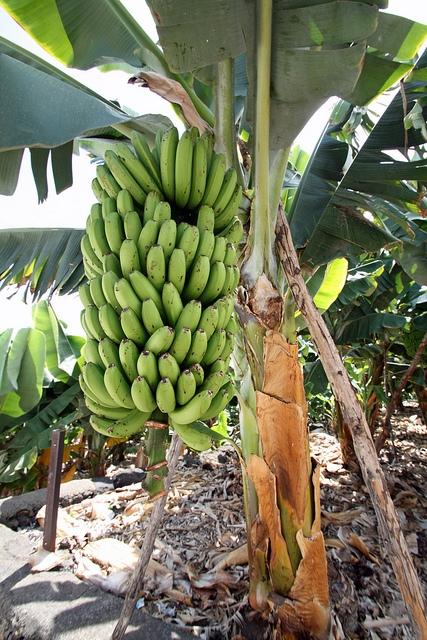banana: (115, 143, 166, 200), (104, 150, 147, 208), (129, 270, 170, 326), (130, 130, 164, 197), (182, 228, 215, 292), (194, 153, 226, 214), (82, 361, 122, 407), (98, 337, 132, 387), (114, 278, 146, 328), (186, 136, 207, 212), (180, 255, 210, 308), (167, 390, 213, 424), (213, 184, 242, 236), (160, 126, 179, 204), (78, 372, 119, 408), (107, 407, 153, 438), (175, 130, 193, 209), (104, 364, 136, 408), (196, 260, 226, 306), (171, 419, 214, 451), (212, 166, 238, 218), (137, 219, 159, 279), (179, 328, 207, 374), (137, 351, 161, 402), (99, 303, 128, 345), (157, 219, 177, 279), (121, 307, 150, 348), (86, 396, 134, 420), (88, 218, 112, 264), (206, 266, 235, 304), (144, 326, 174, 362), (162, 281, 184, 330), (105, 212, 126, 263), (174, 300, 202, 338), (196, 389, 229, 421), (102, 270, 124, 318), (178, 225, 199, 275), (146, 244, 166, 296), (80, 233, 104, 276), (200, 328, 226, 367), (119, 238, 142, 282), (131, 376, 158, 412), (119, 338, 140, 384), (168, 326, 192, 366), (84, 304, 108, 342), (168, 247, 186, 296), (194, 306, 218, 342), (142, 298, 164, 336), (158, 352, 181, 388), (90, 414, 124, 438), (86, 339, 108, 374), (175, 369, 196, 405), (200, 129, 214, 182), (196, 371, 222, 399), (124, 210, 143, 248), (143, 190, 162, 228), (156, 378, 176, 413), (202, 356, 226, 385), (103, 173, 123, 204), (90, 276, 108, 310), (224, 219, 244, 249), (210, 235, 227, 270), (116, 189, 133, 223), (82, 312, 100, 343), (103, 252, 124, 278), (196, 204, 214, 234), (152, 201, 170, 230), (212, 298, 226, 334), (78, 283, 96, 310), (96, 165, 115, 189), (174, 222, 190, 250), (220, 295, 232, 330), (220, 332, 234, 362), (218, 381, 235, 405), (102, 197, 117, 224), (188, 362, 204, 387), (156, 129, 165, 170), (90, 202, 105, 225), (92, 177, 104, 204), (222, 246, 236, 266), (230, 266, 240, 294), (188, 126, 200, 145), (99, 189, 110, 206), (210, 148, 216, 170), (86, 215, 91, 234)
